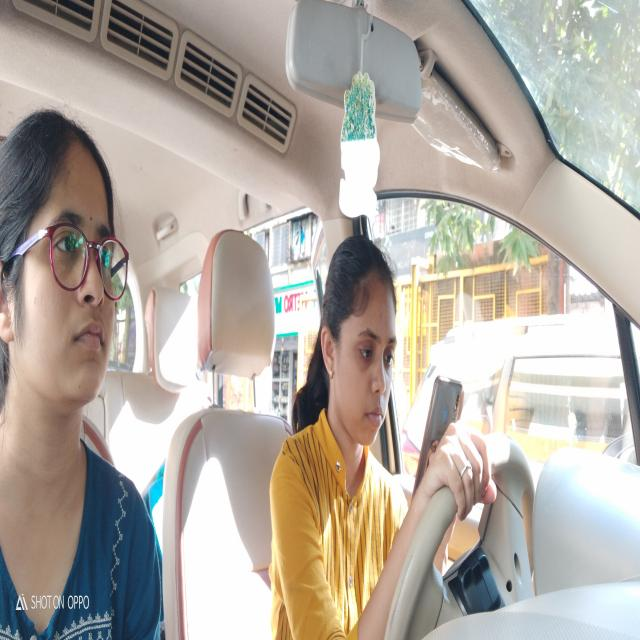mobile: (412, 368, 468, 502)
person: (6, 114, 123, 406), (326, 232, 394, 446)
